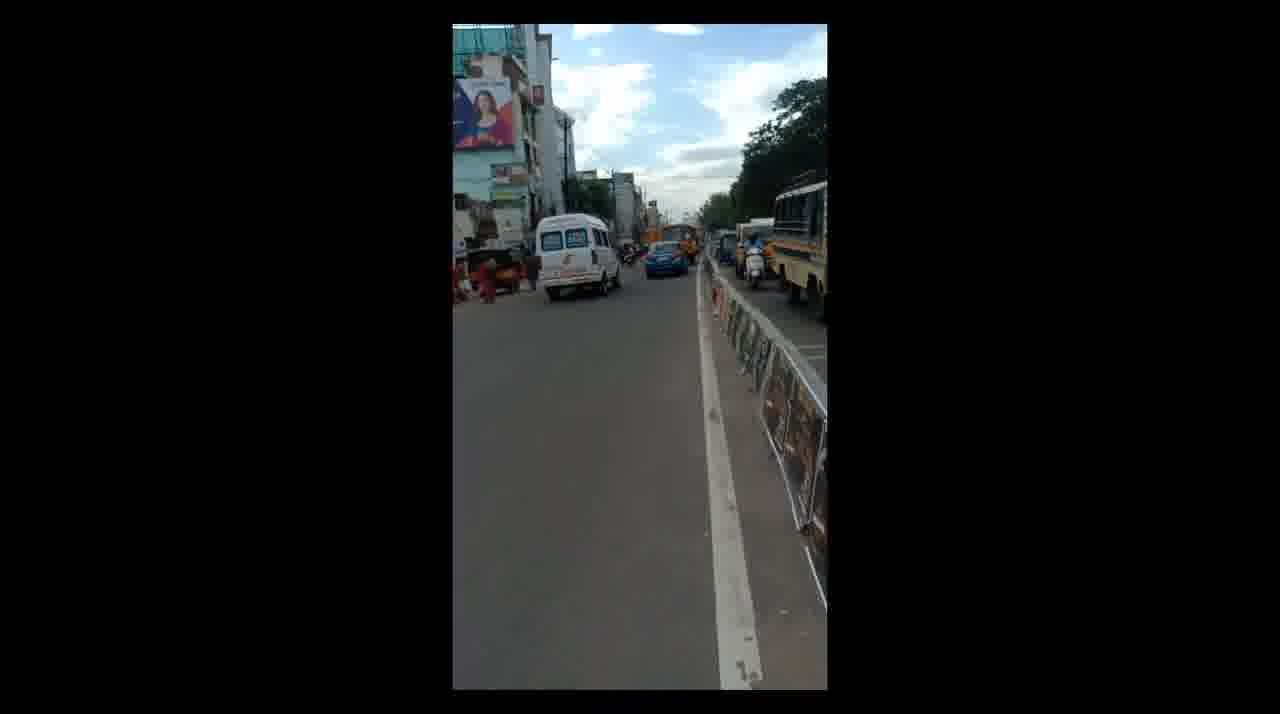AMBULANCE: (535, 207, 615, 302)
